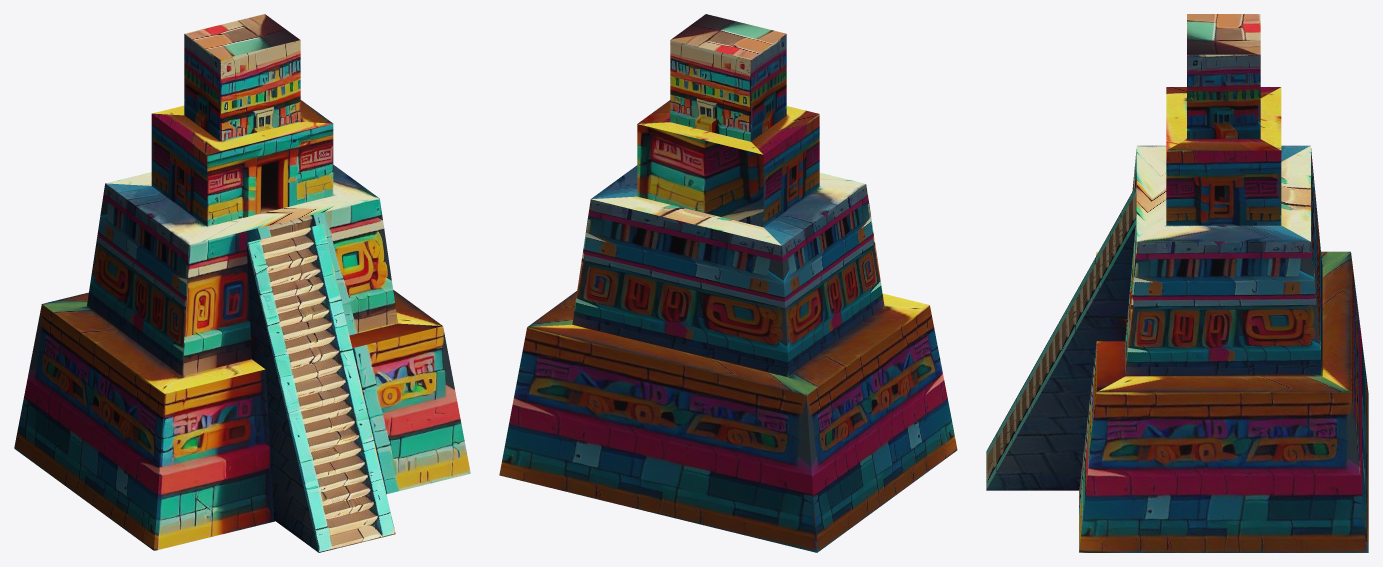
The model's file is tower.glb.
3 renders of one model, left to right at view 1: azimuth 30°, elevation 25°; view 2: azimuth 150°, elevation 25°; view 3: azimuth 270°, elevation 25°, orthographic. The views are drawn at different scales.
Visible parts, largest first — view 1: Cube, Cube.001; view 2: Cube; view 3: Cube, Cube.001.
Part boxes in pixels (x1,y1,x2,y2): Cube: (14,14,470,550); Cube.001: (246,224,395,552); Cube: (499,14,957,552); Cube: (1079,14,1368,552); Cube.001: (986,186,1135,490).
Size of the model in its own units: 8.26 by 10.58 by 8.35.
Materials: 1 (1 with a texture image).
